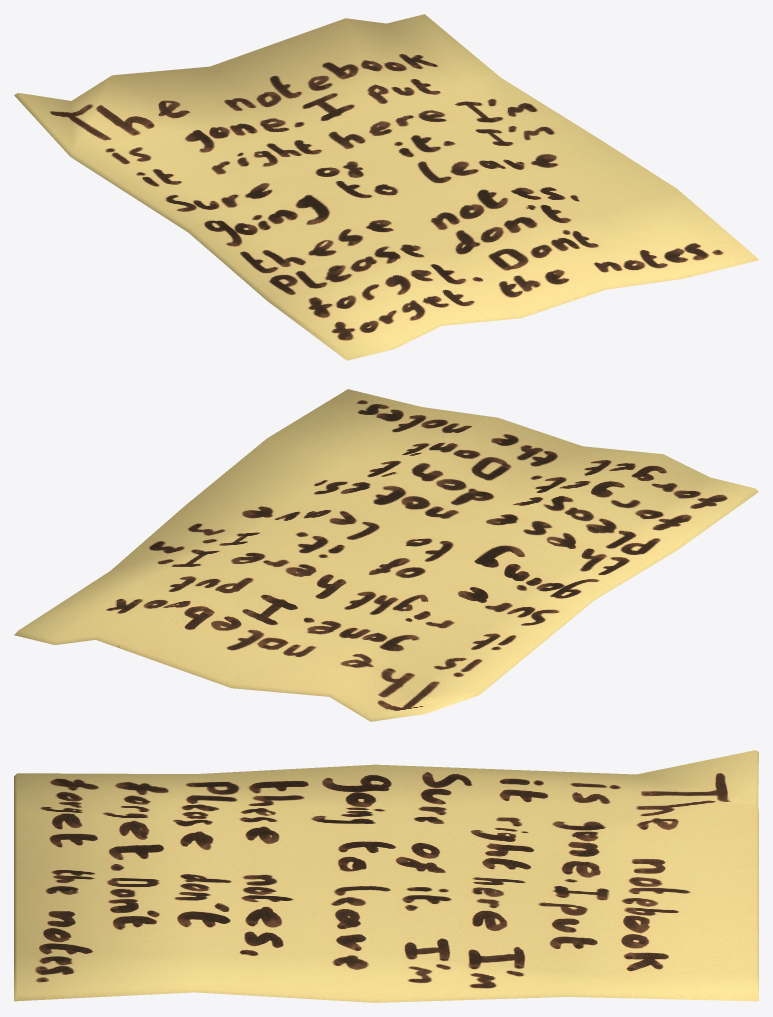
File: NoteMesh2.fbx
3 renders of one model, top to bottom at view 1: azimuth 30°, elevation 25°; view 2: azimuth 150°, elevation 25°; view 3: azimuth 270°, elevation 25°, orthographic. The views are drawn at different scales.
Visible parts, largest first — view 1: NoteMesh2; view 2: NoteMesh2; view 3: NoteMesh2.
Boxes of the visible parts, left/top/right/bottom form: NoteMesh2: left=14, top=14, right=758, bottom=360; NoteMesh2: left=14, top=389, right=758, bottom=721; NoteMesh2: left=14, top=750, right=758, bottom=1002.
Bounding box in the file's own units: 21.86 × 1.25 × 30.39.
